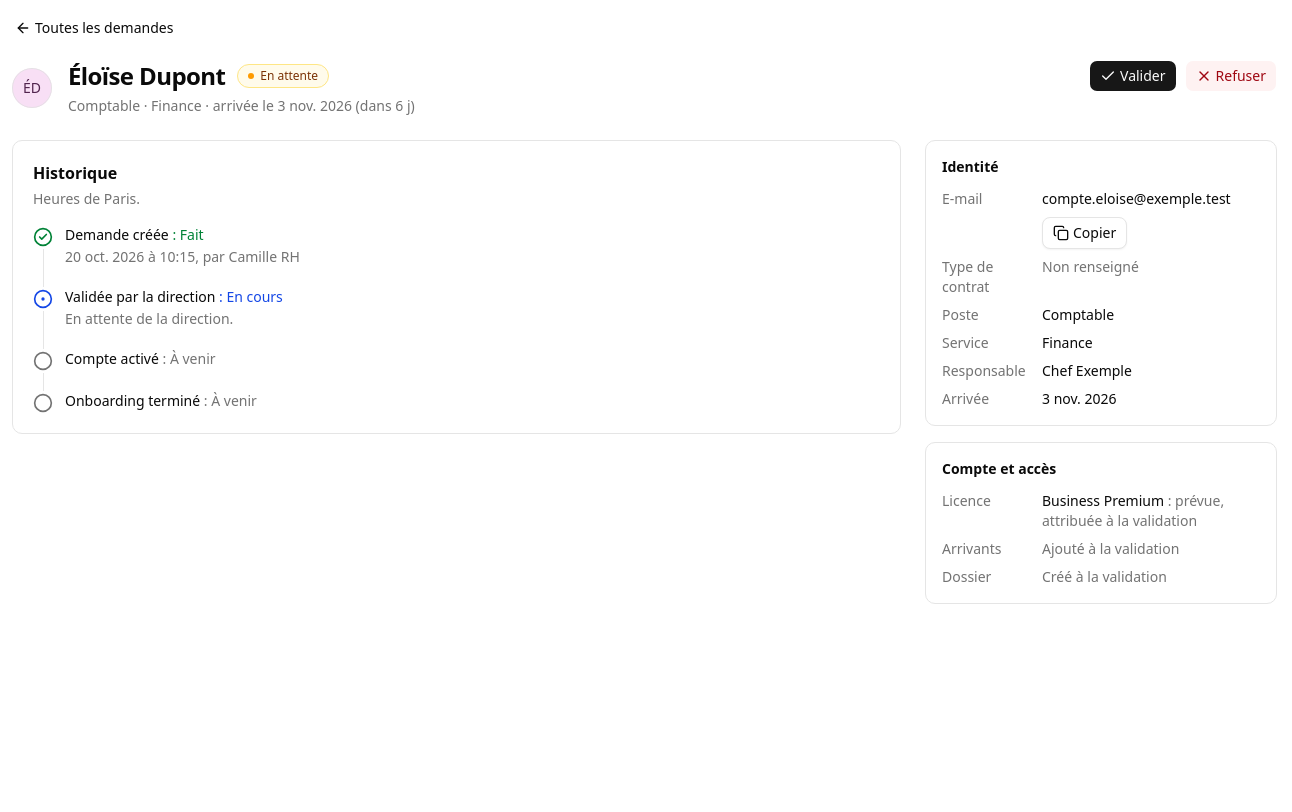
Test: actions depuis la page de détail (état partagé avec la liste) › un spinner en cours survit à la navigation : retour à la liste puis à la page, la ligne reste verrouillée
Check: the heading "Historique" is shown, box [33,162,117,184]
Click the button with aria-label "Valider la demande de Éloïse Dupont": (1133,76) [1089,60,1176,92]
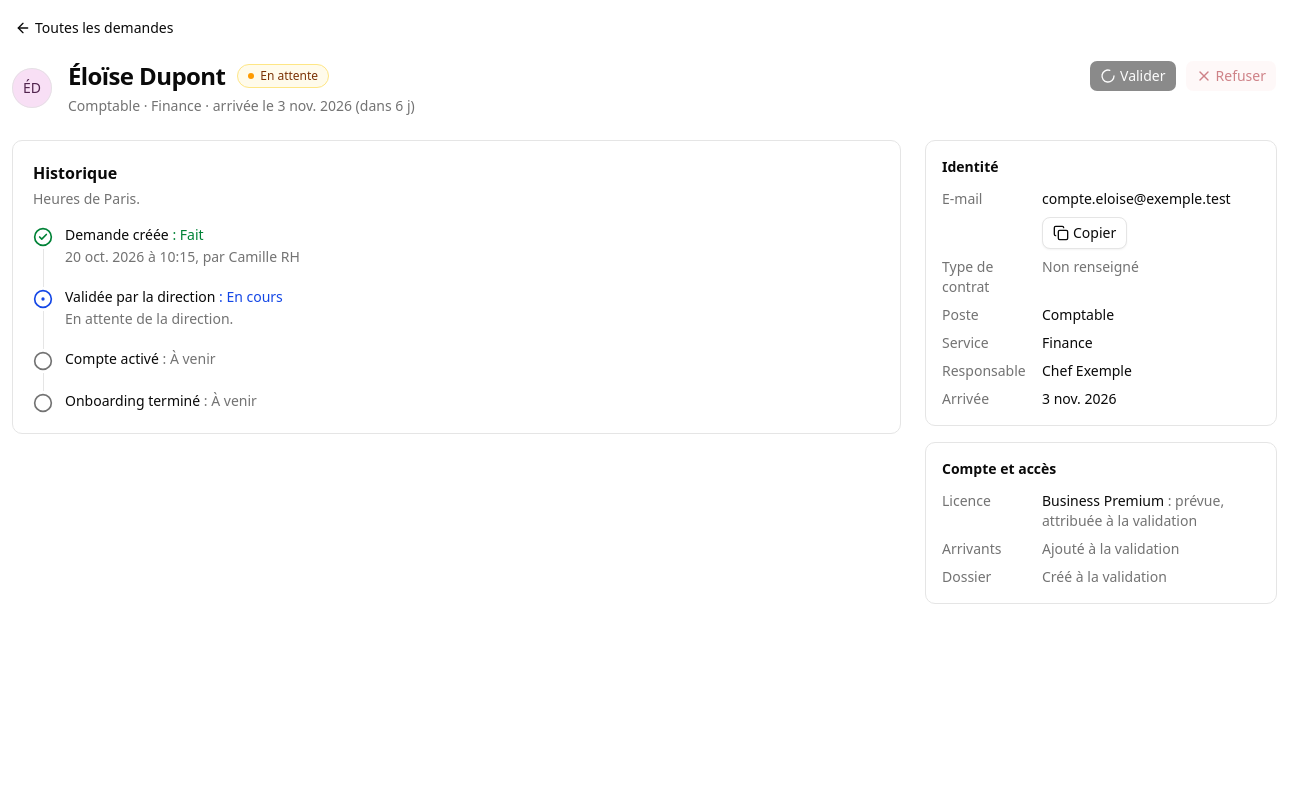
Click the link "Toutes les demandes": (94,28) [15,18,173,37]
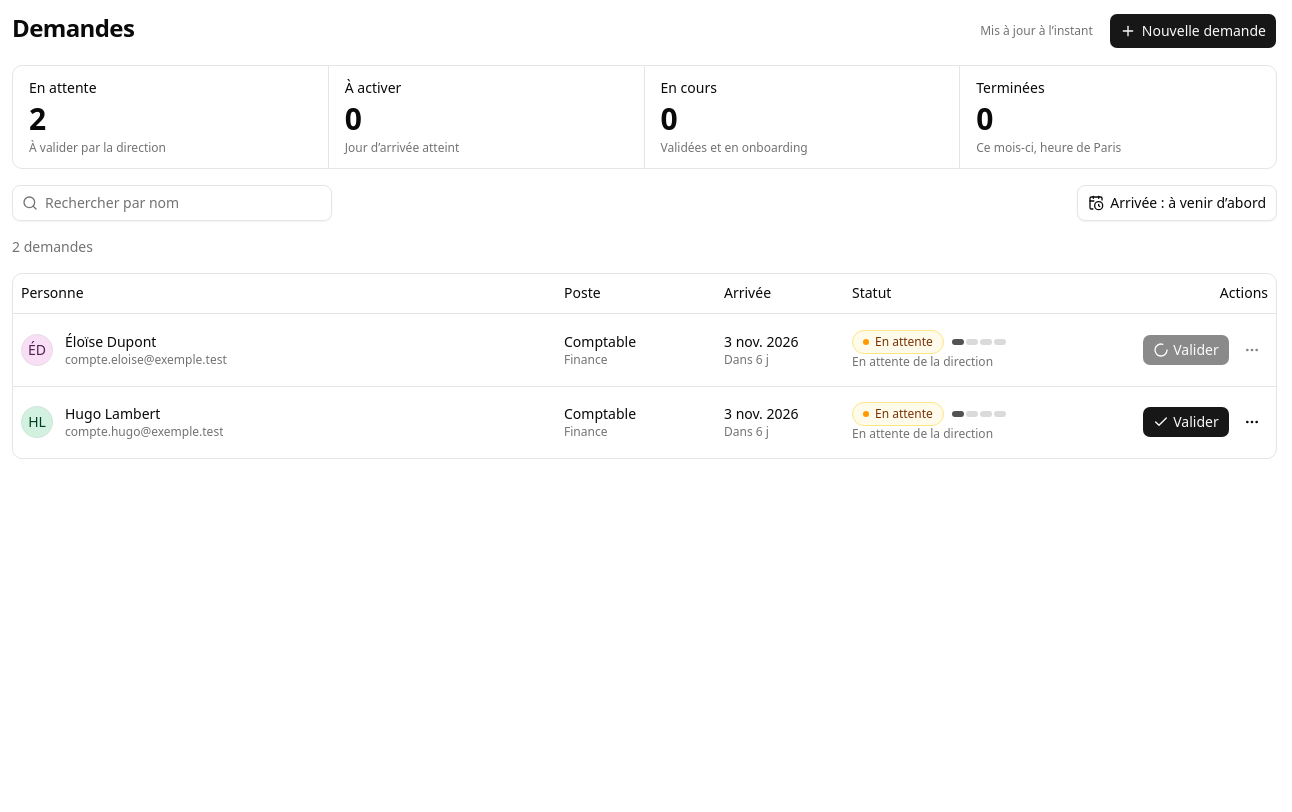
Check: the button with aria-label "Valider la demande de Éloïse Dupont" is disabled, box [1142,334,1230,366]
Click the link with aria-label "Voir le détail de la demande de Éloïse Dupont": (111,342) [65,332,156,352]
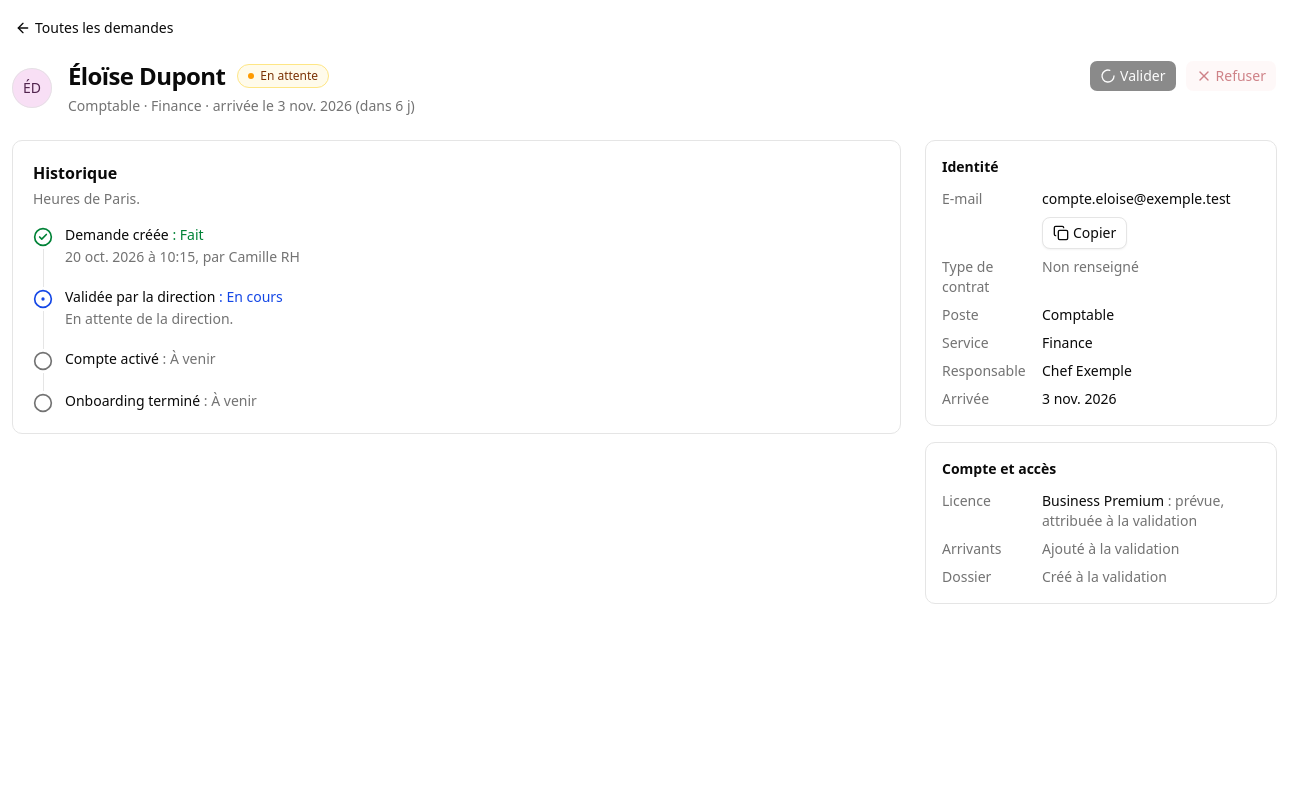
Check: the button with aria-label "Valider la demande de Éloïse Dupont" is disabled, box [1089,60,1176,92]
Check: the heading "Historique" is shown, box [33,162,117,184]
